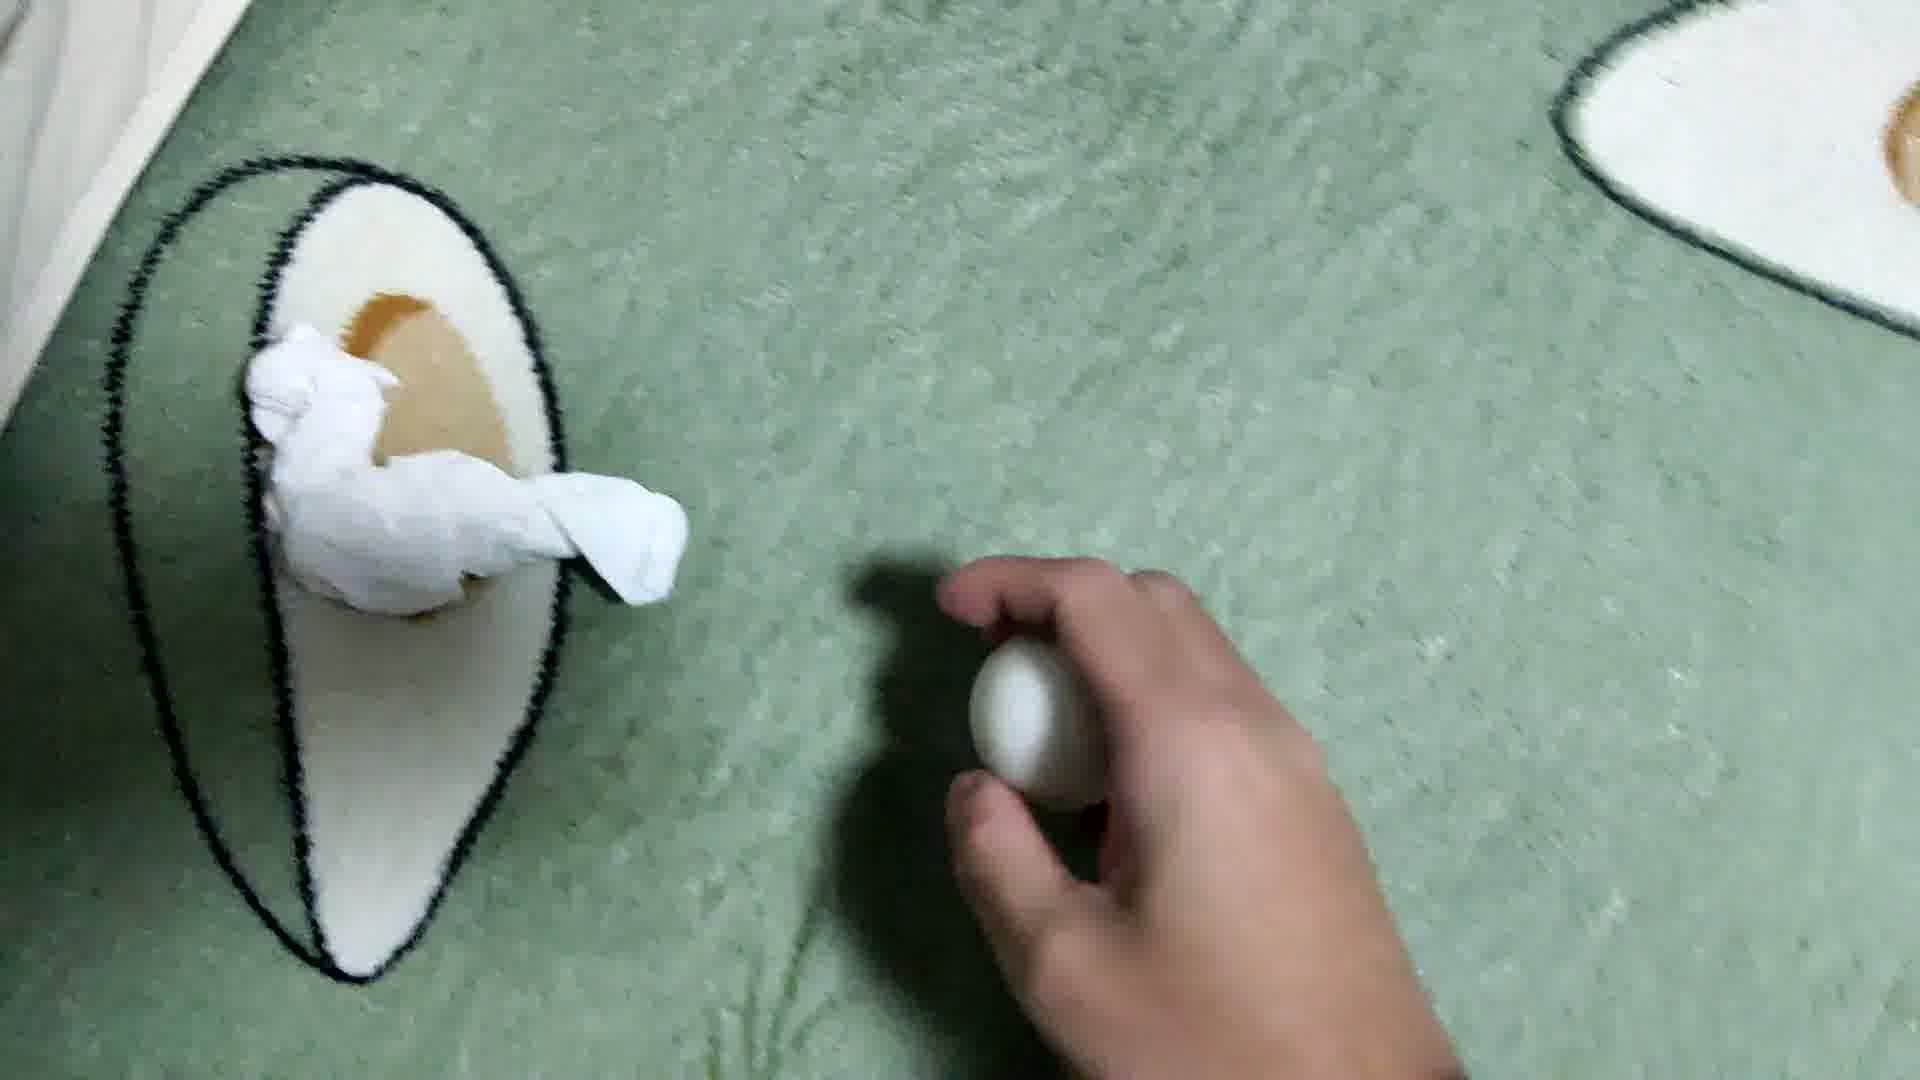Ball: (971, 637, 1141, 814)
